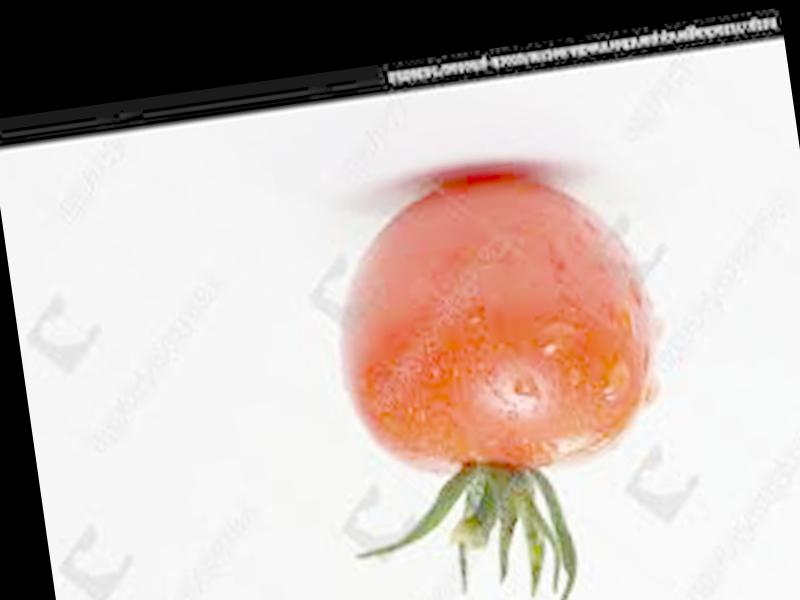Tomato: (318, 157, 669, 489)
